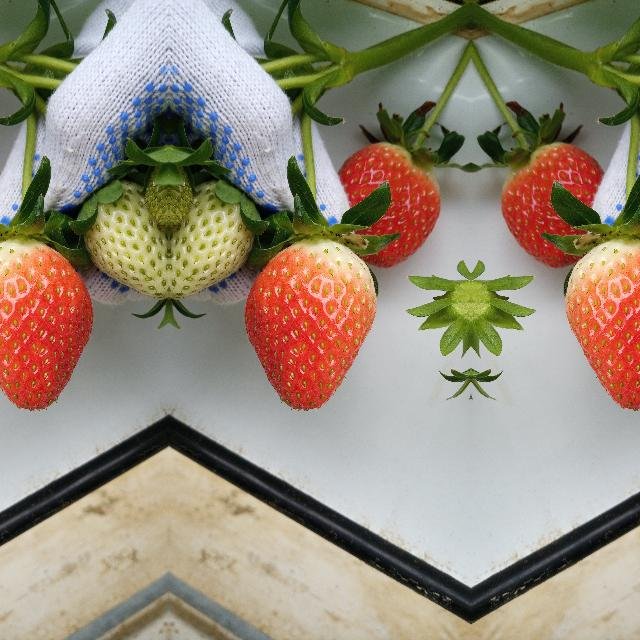Health_100: (242, 239, 376, 411), (0, 239, 93, 411), (565, 239, 640, 411)
Health_25: (172, 167, 250, 313), (86, 167, 164, 313)
